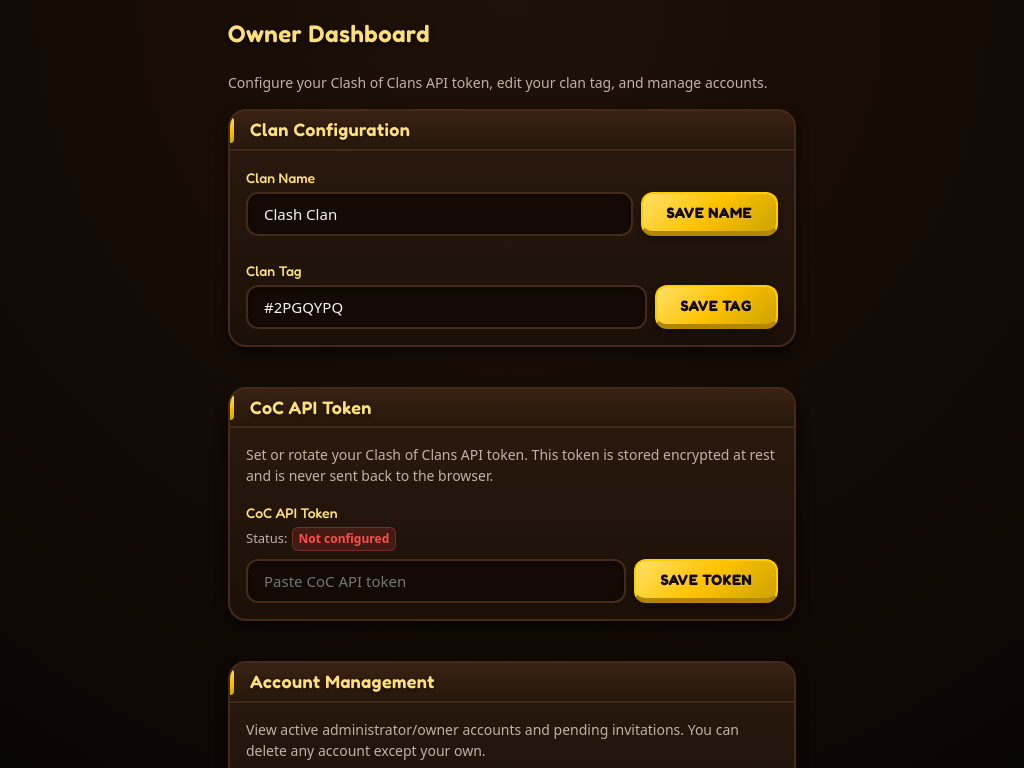
Test: OwnerView.vue › validates and updates clan name on save
# Test empty validation
Clear the field with id "clanName" at (439, 214), box [246,192,633,236]
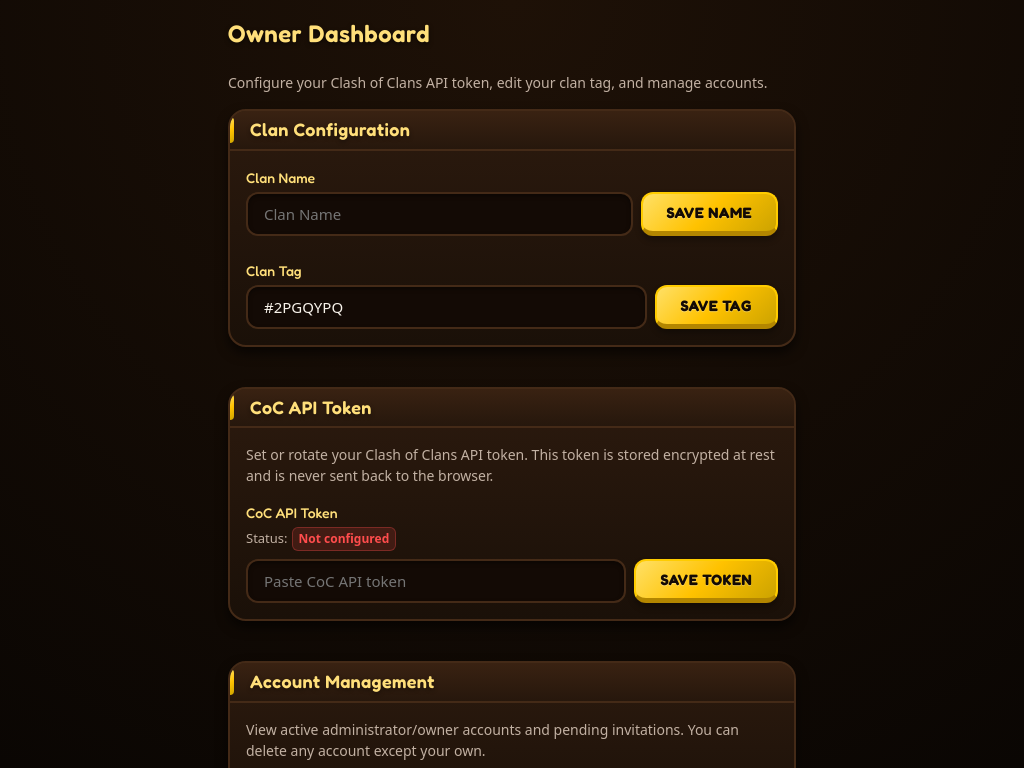
Click the button with class "save-name-btn" at (709, 214), box [641,192,778,236]
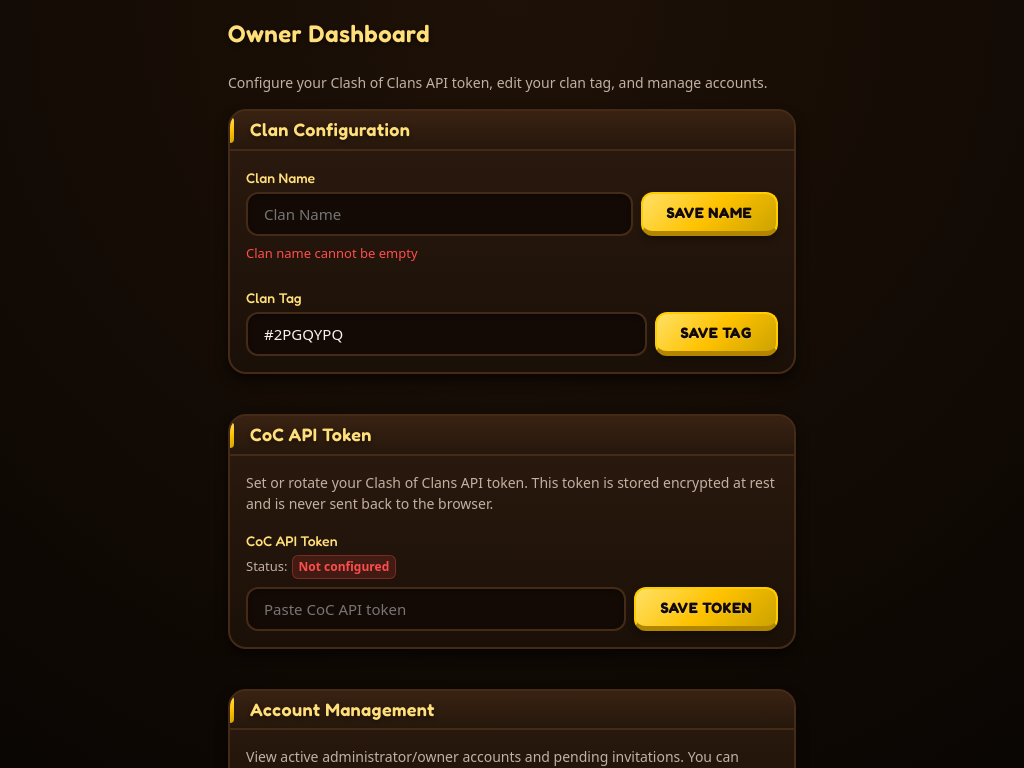
Expected: the text with class "name-error" shows "cannot be empty", [246,244,418,262]
# Test valid submission
Type "New Clan Name" into the field with id "clanName" at (439, 214), box [246,192,633,236]
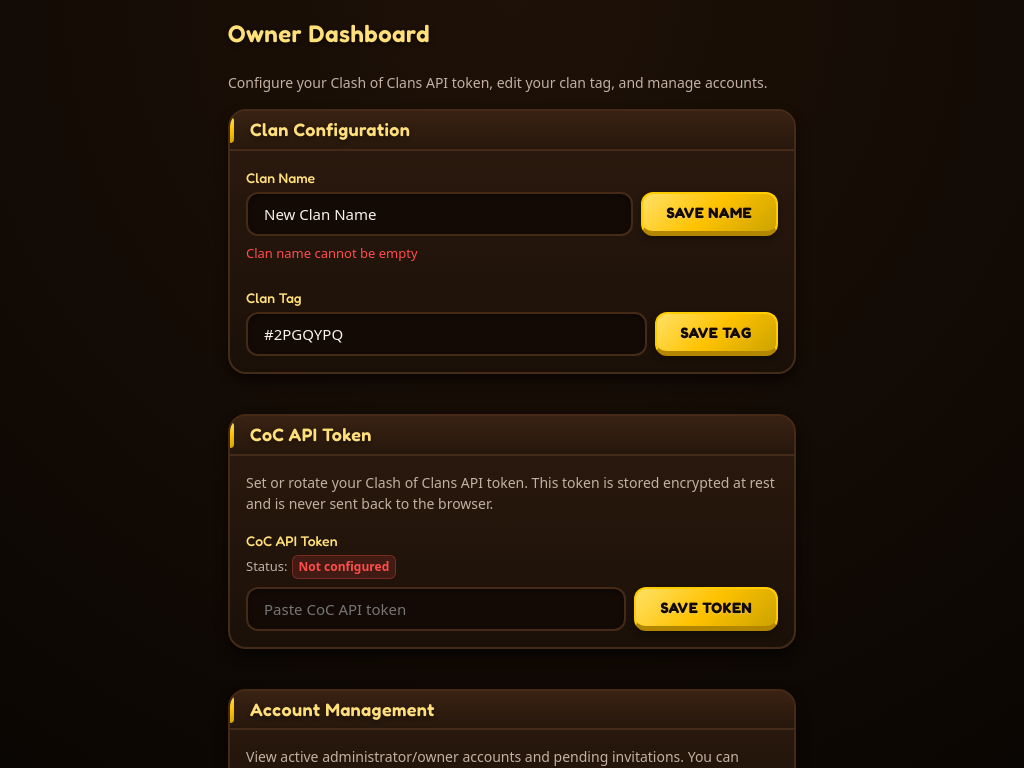
Click the button with class "save-name-btn" at (709, 214), box [641,192,778,236]
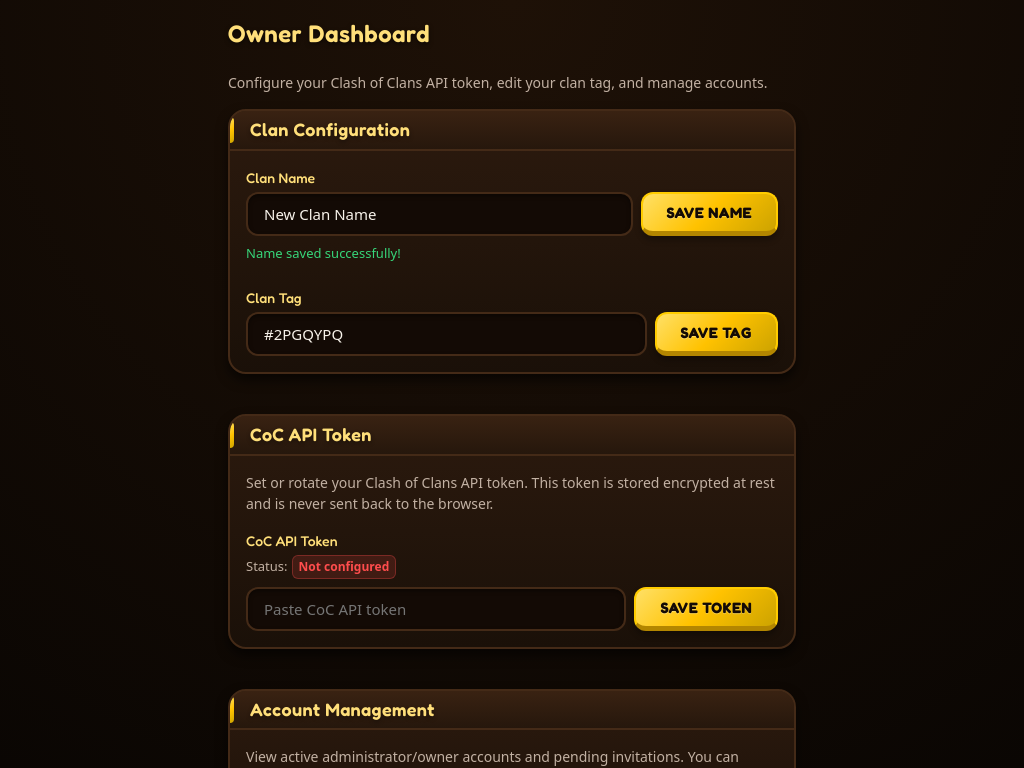
Expected: the text with class "name-success" shows "Name saved successfully", [246,244,401,262]
